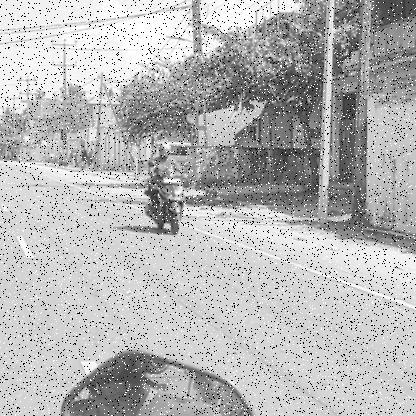motorcycle: (142, 169, 190, 236)
